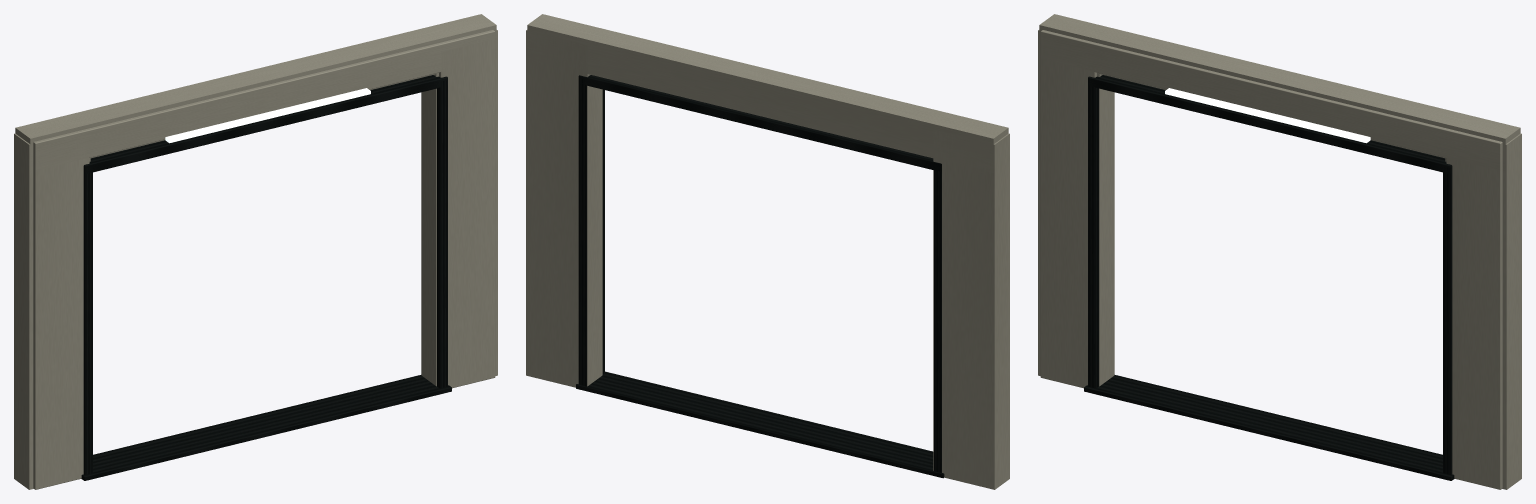
Rendered from elevator-portal.glb.
3 renders of one model, left to right at view 1: azimuth 30°, elevation 25°; view 2: azimuth 150°, elevation 25°; view 3: azimuth 330°, elevation 25°, orthographic.
Visible parts, largest first — view 1: Portal_Left, Portal_Right, Portal_Header, Portal_Closure_Header, Portal_Threshold, Portal_Closure_Left, Portal_Closure_Right, Portal_InnerJamb_Header, Portal_InnerJamb_Right, Portal_InnerJamb_Left, Portal_Light; view 2: Portal_Closure_Left, Portal_Closure_Right, Portal_Closure_Header, Portal_Header, Portal_Threshold, Portal_Left, Portal_Right, Portal_InnerJamb_Header, Portal_InnerJamb_Right, Portal_InnerJamb_Left; view 3: Portal_Right, Portal_Left, Portal_Header, Portal_Closure_Header, Portal_Threshold, Portal_Closure_Right, Portal_Closure_Left, Portal_InnerJamb_Header, Portal_InnerJamb_Left, Portal_InnerJamb_Right, Portal_Light.
Part boxes in pixels (left/top/right/bottom): Portal_Left: left=33, top=139, right=89, bottom=489; Portal_Right: left=439, top=39, right=495, bottom=388; Portal_Header: left=33, top=30, right=495, bottom=170; Portal_Closure_Header: left=15, top=14, right=496, bottom=172; Portal_Threshold: left=81, top=375, right=451, bottom=480; Portal_Closure_Left: left=14, top=133, right=90, bottom=489; Portal_Closure_Right: left=421, top=30, right=497, bottom=386; Portal_InnerJamb_Header: left=83, top=75, right=447, bottom=173; Portal_InnerJamb_Right: left=437, top=80, right=447, bottom=388; Portal_InnerJamb_Left: left=83, top=167, right=92, bottom=474; Portal_Light: left=165, top=88, right=370, bottom=143; Portal_Closure_Left: left=933, top=130, right=1009, bottom=489; Portal_Closure_Right: left=526, top=30, right=602, bottom=387; Portal_Closure_Header: left=527, top=14, right=1008, bottom=172; Portal_Header: left=531, top=30, right=989, bottom=168; Portal_Threshold: left=576, top=371, right=944, bottom=478; Portal_Left: left=937, top=142, right=989, bottom=487; Portal_Right: left=531, top=38, right=578, bottom=385; Portal_InnerJamb_Header: left=578, top=75, right=941, bottom=171; Portal_InnerJamb_Right: left=578, top=78, right=604, bottom=386; Portal_InnerJamb_Left: left=934, top=165, right=941, bottom=472; Portal_Right: left=1446, top=139, right=1502, bottom=489; Portal_Left: left=1040, top=39, right=1096, bottom=388; Portal_Header: left=1040, top=30, right=1502, bottom=170; Portal_Closure_Header: left=1039, top=14, right=1520, bottom=172; Portal_Threshold: left=1084, top=375, right=1454, bottom=480; Portal_Closure_Right: left=1445, top=133, right=1521, bottom=489; Portal_Closure_Left: left=1038, top=30, right=1114, bottom=386; Portal_InnerJamb_Header: left=1088, top=75, right=1452, bottom=173; Portal_InnerJamb_Left: left=1088, top=85, right=1098, bottom=388; Portal_InnerJamb_Right: left=1443, top=166, right=1452, bottom=474; Portal_Light: left=1165, top=88, right=1370, bottom=143.
Bounding box in the file's own units: 11.14 × 7.97 × 0.94.
Materials: 5 (4 with a texture image).
